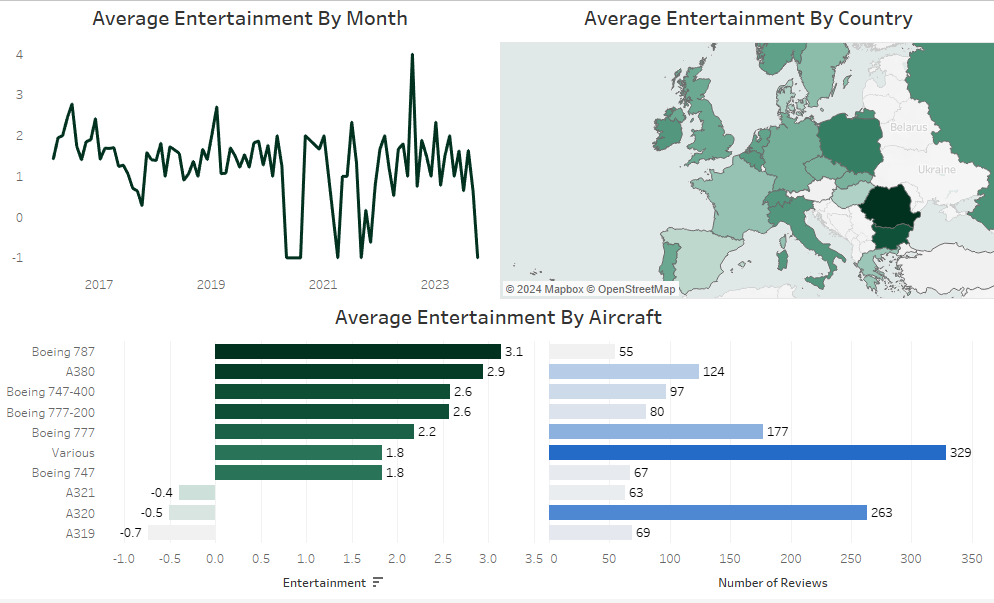

The dashboard page shown, as its layout file describes it:
{"tool":"tableau","page":{"name":"Dashboard 1","canvas":[1200,700],"ordinal":0},"visuals":[{"type":"text","box":[0,0,200,100]},{"type":"worksheet","title":"Summary","mark":"Automatic","box":[200,0,1001,100]},{"type":"parameter","param":"[Parameters].[Parameter 1]","box":[0,100,200,166]},{"type":"worksheet","title":"Month","mark":"Automatic","rows":["Calculation_745627221744136192"],"cols":["date"],"box":[204,100,500,300]},{"type":"worksheet","title":"Map","mark":"Automatic","box":[704,100,497,300]},{"type":"filter","title":"Map","param":"[federated.01n4hwz1t8digk13c26pw14motht].[tmn:date:qk]","box":[0,266,200,69]},{"type":"filter","title":"Map","param":"[federated.01n4hwz1t8digk13c26pw14motht].[none:traveller_type:nk]","box":[0,335,200,145]},{"type":"worksheet","title":"Aircraft","mark":"Automatic","cols":["Calculation_745627221744136192","ba_reviews.csv_12D005D81D0B4700A2679F66F3E3A610"],"box":[204,399,997,300]},{"type":"filter","title":"Map","param":"[federated.01n4hwz1t8digk13c26pw14motht].[none:seat_type:nk]","box":[0,480,200,125]},{"type":"filter","title":"Map","param":"[federated.01n4hwz1t8digk13c26pw14motht].[Aircraft (group)]","box":[0,605,200,49]}]}

Visuals, with their boxes on the page's 1200x700 design canvas (x1, y1, x2, y2). These are canvas units, not pixel positions in the 994x603 screenshot, which may show the page scaled, cropped or inside an application window:
text: (0, 0, 200, 100)
"Summary" worksheet: (200, 0, 1201, 100)
parameter: (0, 100, 200, 266)
"Month" worksheet: (204, 100, 704, 400)
"Map" worksheet: (704, 100, 1201, 400)
"Map" filter: (0, 266, 200, 335)
"Map" filter: (0, 335, 200, 480)
"Aircraft" worksheet: (204, 399, 1201, 699)
"Map" filter: (0, 480, 200, 605)
"Map" filter: (0, 605, 200, 654)
